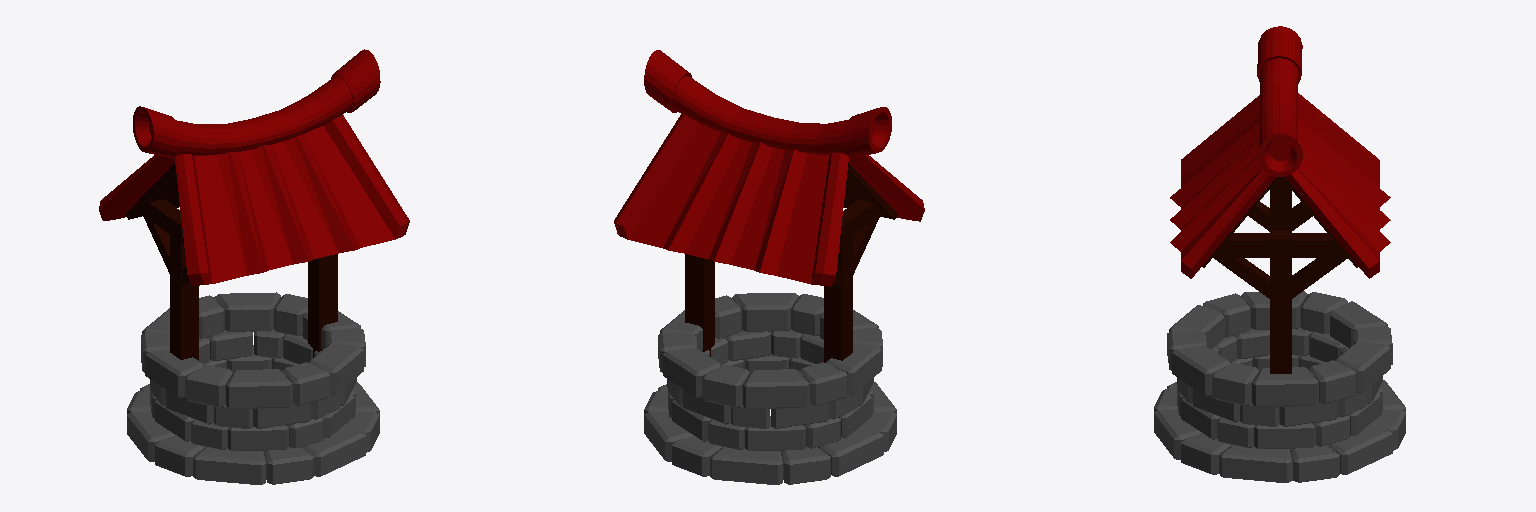
The model's file is wellobj.obj.
The picture shows the model from 3 angles: view 1: azimuth 30°, elevation 25°; view 2: azimuth 150°, elevation 25°; view 3: azimuth 270°, elevation 25°; orthographic projection.
Parts seen in each view (by area): view 1: brick007, Pyramid001, Cylinder002, Box002, Pyramid002; view 2: brick007, Pyramid001, Cylinder002, Box002, Pyramid002; view 3: brick007, Pyramid001, Box002, Cylinder002, Pyramid002.
Part boxes in pixels (left/top/right/bottom): brick007: left=127, top=292, right=379, bottom=484; Pyramid001: left=99, top=115, right=409, bottom=286; Cylinder002: left=133, top=49, right=380, bottom=157; Box002: left=142, top=199, right=337, bottom=360; Pyramid002: left=125, top=163, right=179, bottom=219; brick007: left=644, top=293, right=896, bottom=484; Pyramid001: left=614, top=114, right=924, bottom=286; Cylinder002: left=644, top=50, right=891, bottom=157; Box002: left=685, top=199, right=881, bottom=362; Pyramid002: left=844, top=163, right=897, bottom=219; brick007: left=1154, top=291, right=1405, bottom=482; Pyramid001: left=1170, top=93, right=1390, bottom=278; Box002: left=1213, top=177, right=1347, bottom=373; Cylinder002: left=1257, top=26, right=1302, bottom=176; Pyramid002: left=1202, top=177, right=1358, bottom=267.
Size of the model in its own units: 18.66 by 27.8 by 17.95.